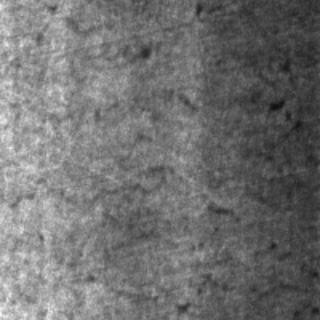crazing: (194, 64, 318, 316), (5, 131, 169, 315)
